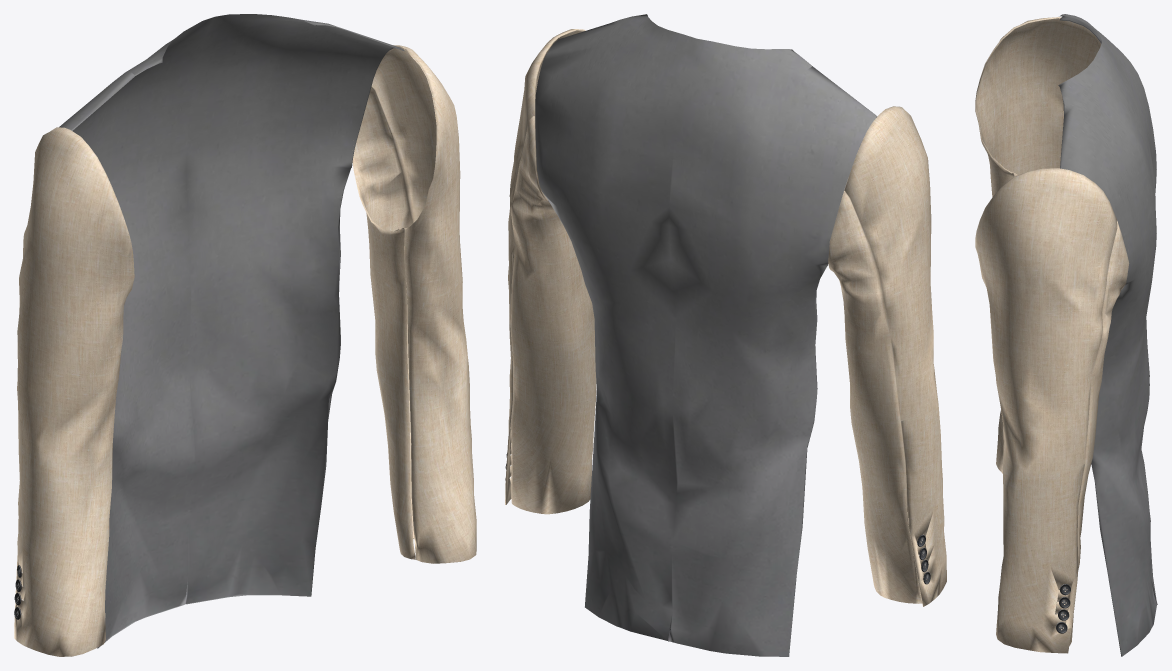
File: classic_noch_doublebtn_new.glb
3 renders of one model, left to right at view 1: azimuth 30°, elevation 25°; view 2: azimuth 150°, elevation 25°; view 3: azimuth 270°, elevation 25°, orthographic. The views are drawn at different scales.
Parts seen in each view (by area): view 1: Full_Lined, Sleves; view 2: Full_Lined, Sleves; view 3: Sleves, Full_Lined, Sleeves_Buttons.
Boxes of the visible parts, box(x1,y1,x2,y2) form: Full_Lined: box(59, 14, 404, 648); Sleves: box(14, 45, 476, 656); Full_Lined: box(535, 14, 877, 656); Sleves: box(505, 29, 946, 606); Sleves: box(975, 17, 1129, 653); Full_Lined: box(1058, 14, 1157, 656); Sleeves_Buttons: box(1056, 584, 1070, 633).
Bounding box in the file's own units: 0.0773 × 0.1026 × 0.0299.
Materials: 4 (3 with a texture image).
